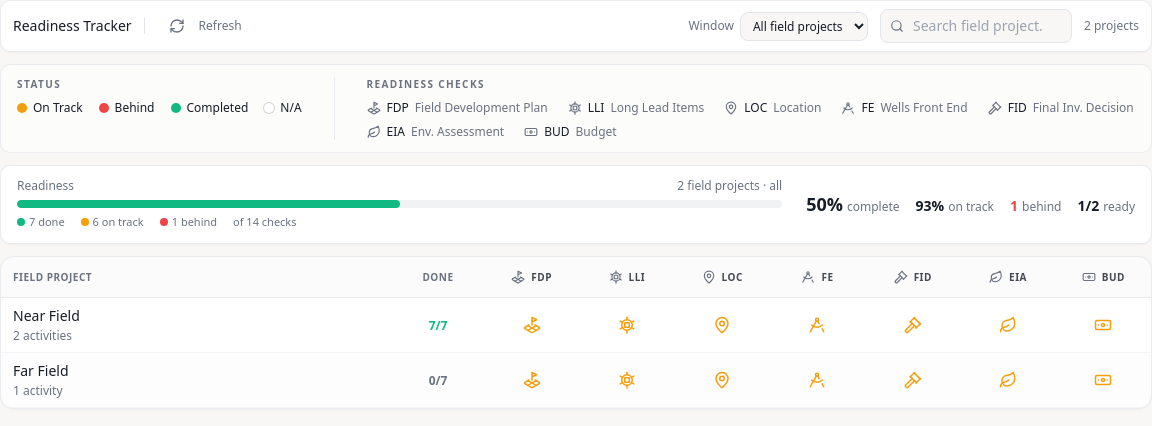
Test case: ReadinessGrid › narrows via the window select and restores on Clear filter
Expected: the text "Near Field" is shown, [13,306,80,324]
Expected: the text "Far Field" is shown, [13,360,68,380]
Select "Next 6 months" in the dropdown named "Readiness time window" at (804, 26), box [740,12,868,40]
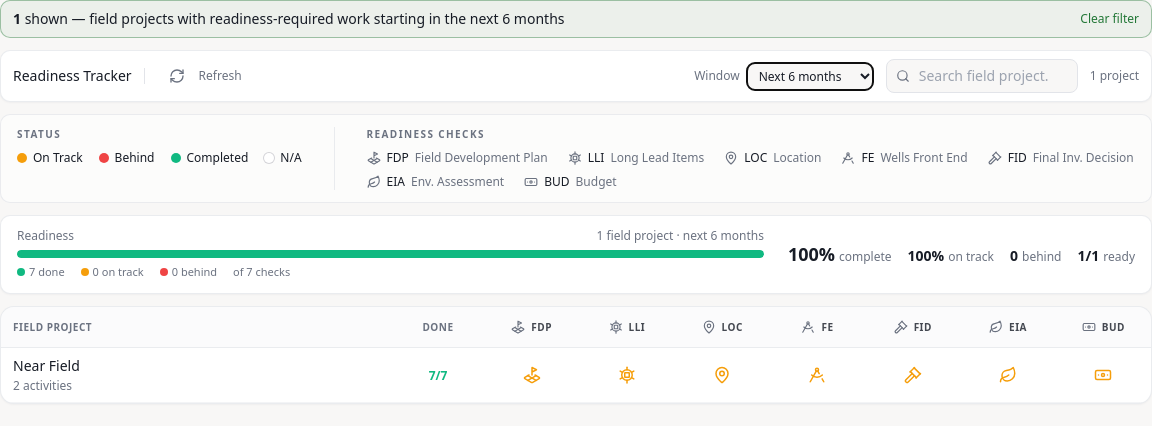
Expected: the text "Near Field" is shown, [13,356,80,374]
Expected: the text "Far Field" is gone
Click the button "Clear filter".
click(1110, 19)  # box [1080,11,1139,27]
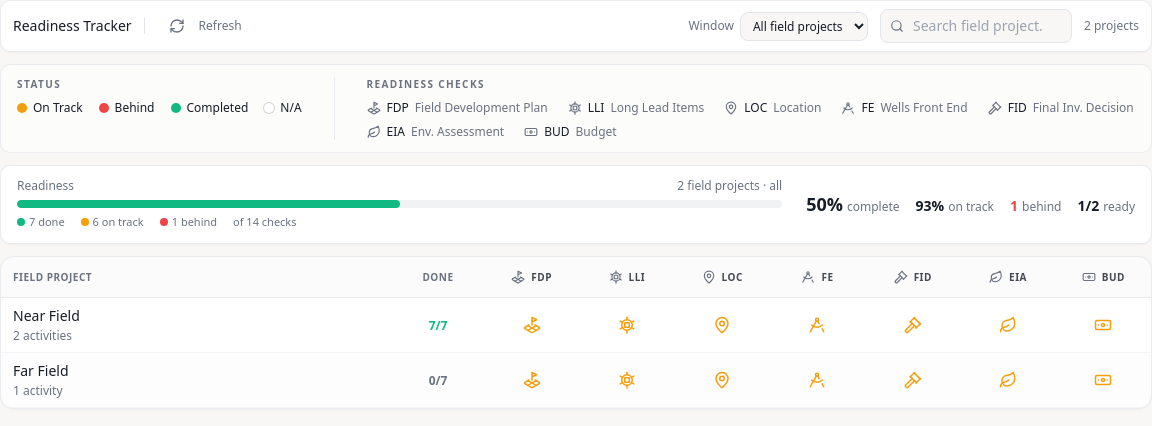
Expected: the text "Far Field" is shown, [13,360,68,380]
